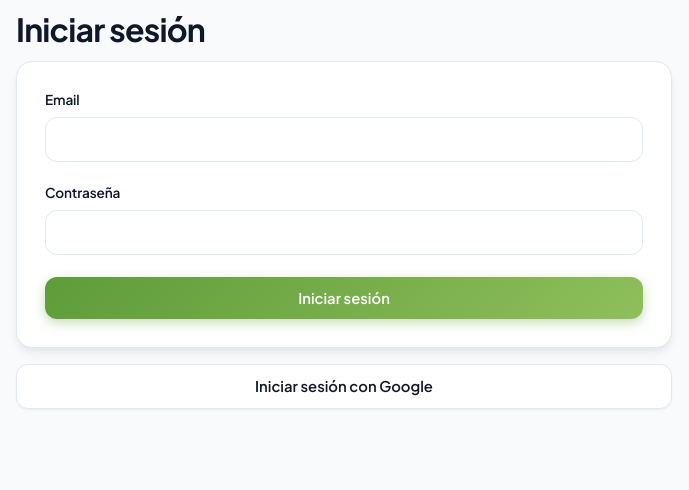
Test case: Login › muestra un mensaje de error cuando el login falla
Type "test@test.com" into the field labelled "Email" at (344, 139), box x1=45 y1=117 x2=643 y2=162
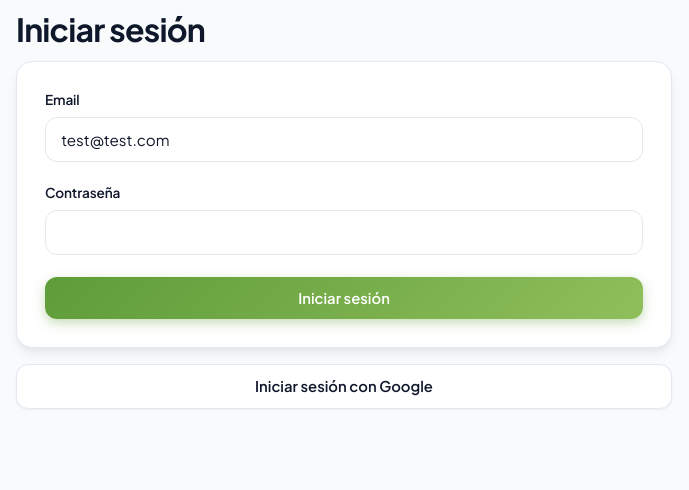
Type "wrongpass" into the password field labelled "Contraseña" at (344, 233), box x1=45 y1=210 x2=643 y2=255
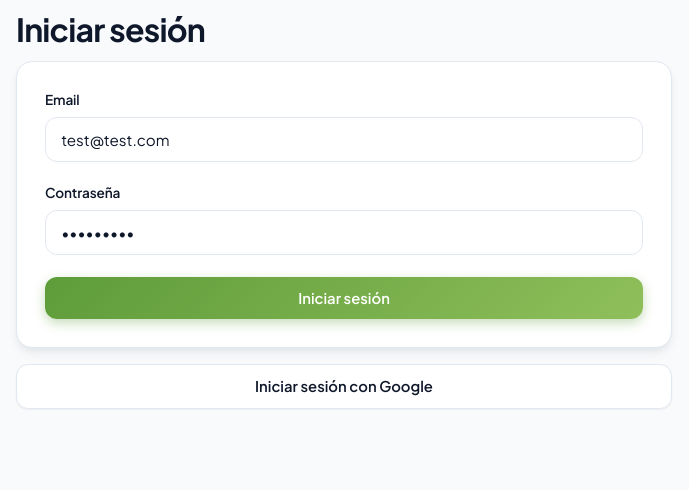
Click the button "Iniciar sesión" at (344, 298), box x1=45 y1=277 x2=643 y2=319
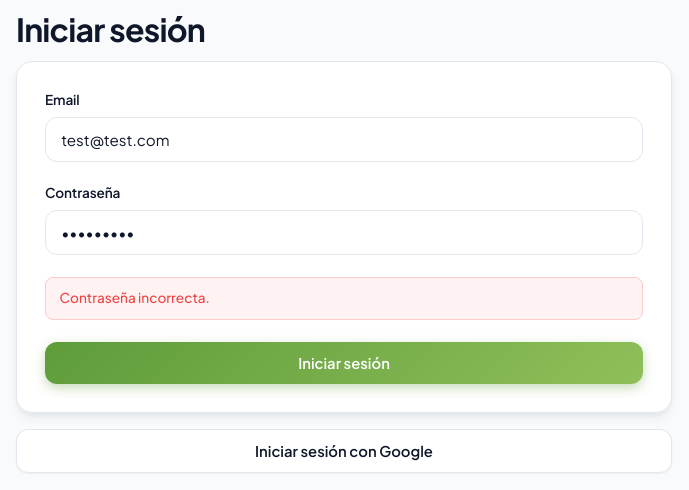
Check: the text "Contraseña incorrecta." is shown, box x1=45 y1=277 x2=643 y2=320
